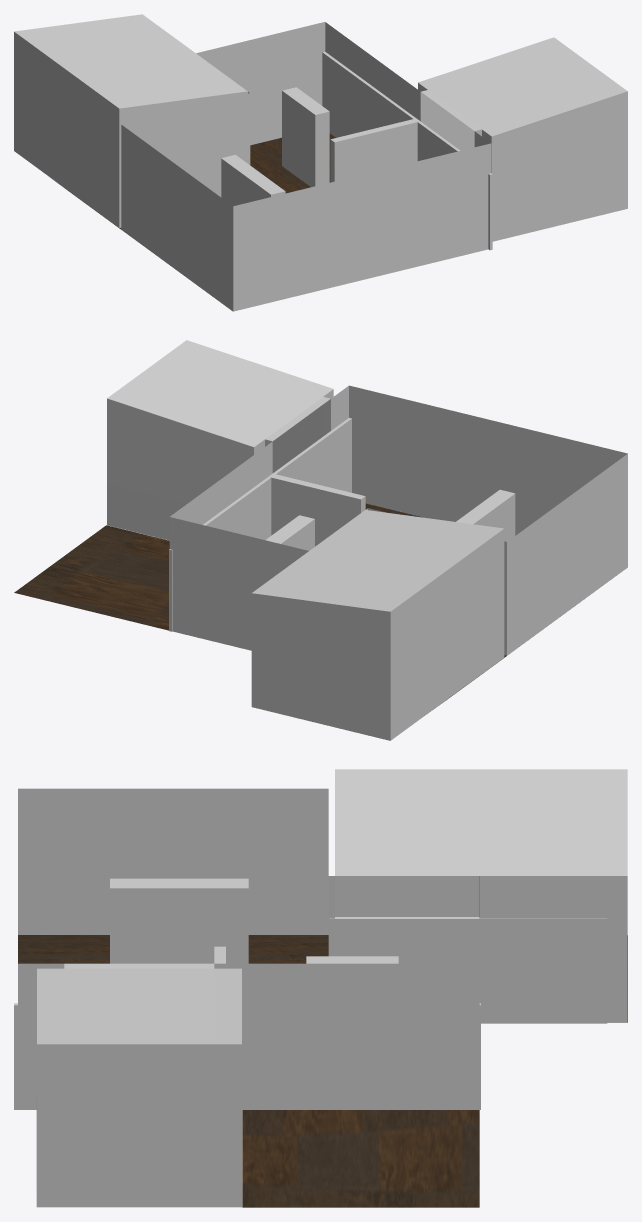
The model's file is GalleryRoofless.glb.
3 renders of one model, top to bottom at view 1: azimuth 30°, elevation 25°; view 2: azimuth 150°, elevation 25°; view 3: azimuth 270°, elevation 25°, orthographic. The views are drawn at different scales.
Visible parts, largest first — view 1: walls, HIdingWall, front divider.001, right divider, front divider, floor; view 2: walls, floor, HIdingWall, right divider, front divider, front divider.001; view 3: walls, floor, HIdingWall, HIdingWall.001, front divider, front divider.001.
Boxes of the visible parts, bbox=[...] form: walls: bbox=[14, 14, 627, 311]; HIdingWall: bbox=[322, 51, 492, 250]; front divider.001: bbox=[282, 87, 329, 187]; right divider: bbox=[330, 118, 420, 182]; front divider: bbox=[221, 154, 285, 206]; floor: bbox=[55, 133, 335, 229]; walls: bbox=[107, 340, 627, 740]; floor: bbox=[14, 503, 506, 709]; HIdingWall: bbox=[169, 418, 351, 631]; right divider: bbox=[268, 473, 365, 546]; front divider: bbox=[456, 489, 515, 541]; front divider.001: bbox=[265, 515, 314, 550]; walls: bbox=[18, 769, 627, 1207]; floor: bbox=[18, 935, 627, 1207]; HIdingWall: bbox=[14, 1003, 480, 1109]; HIdingWall.001: bbox=[329, 917, 607, 1023]; front divider: bbox=[110, 878, 248, 963]; front divider.001: bbox=[306, 956, 398, 963].
Size of the model in its own units: 55.78 by 15.93 by 53.1.
2 materials, 1 textured.
